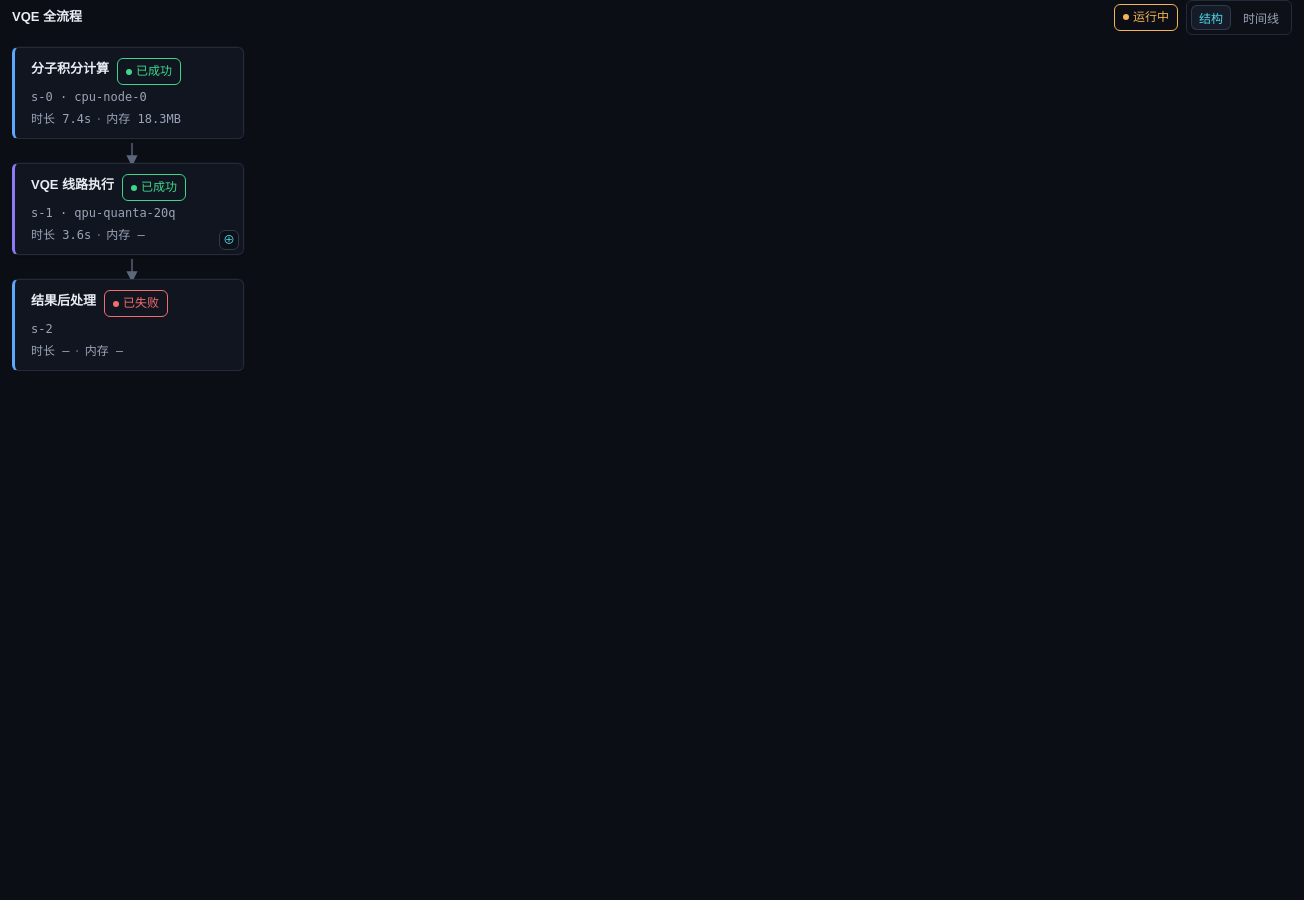
Test: DagView 时间线模式（v1.3 Gantt） › 二段切换：默认结构；切时间线渲染 Gantt 与 5 档刻度
Click the tab with test id "dag-mode-timeline" at (1261, 18), box [1235,5,1287,30]
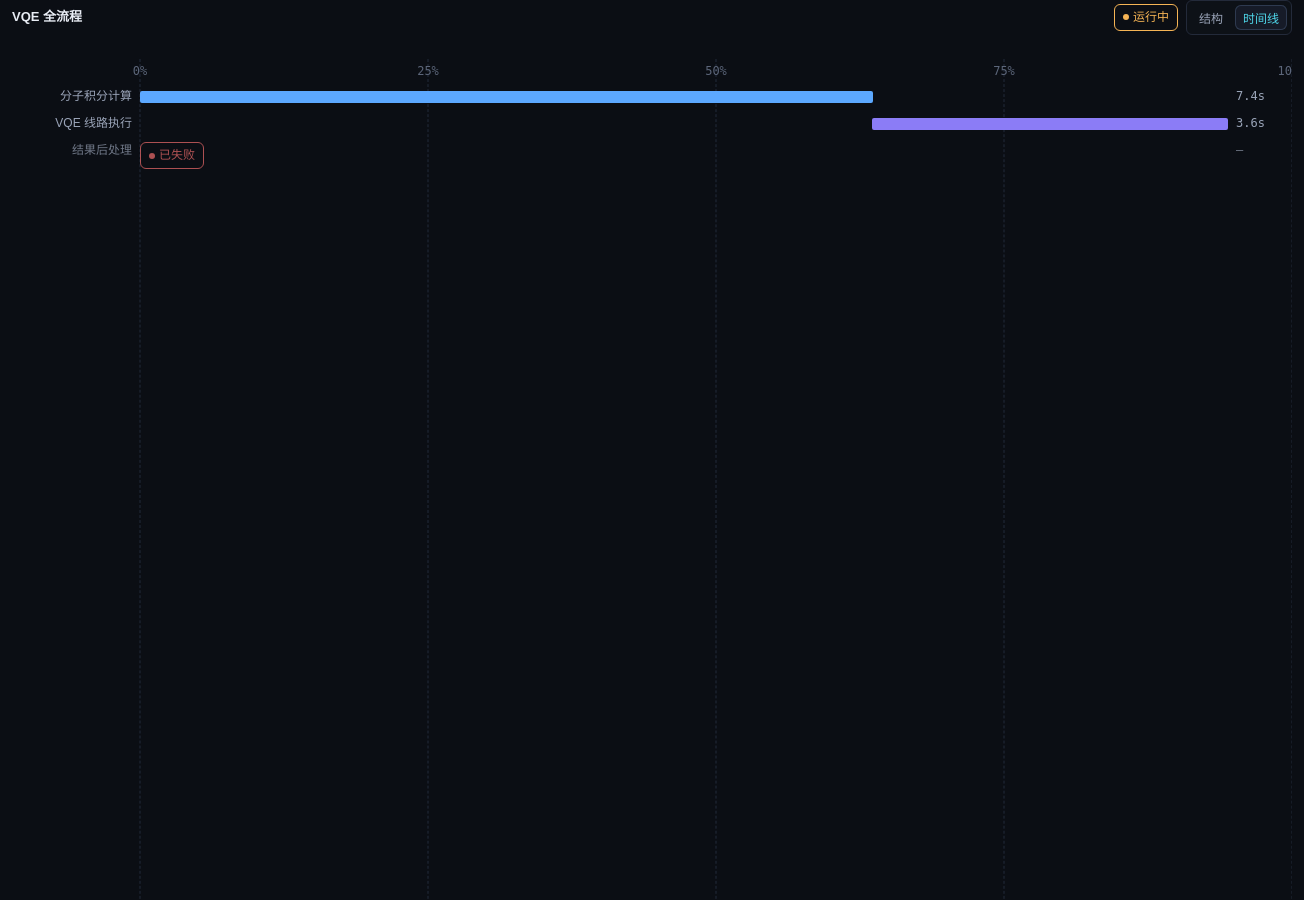
Now the element with class "dag-timeline" is shown, box [12,47,1292,165]
Now the text "0%" is shown, box [133,63,147,80]
